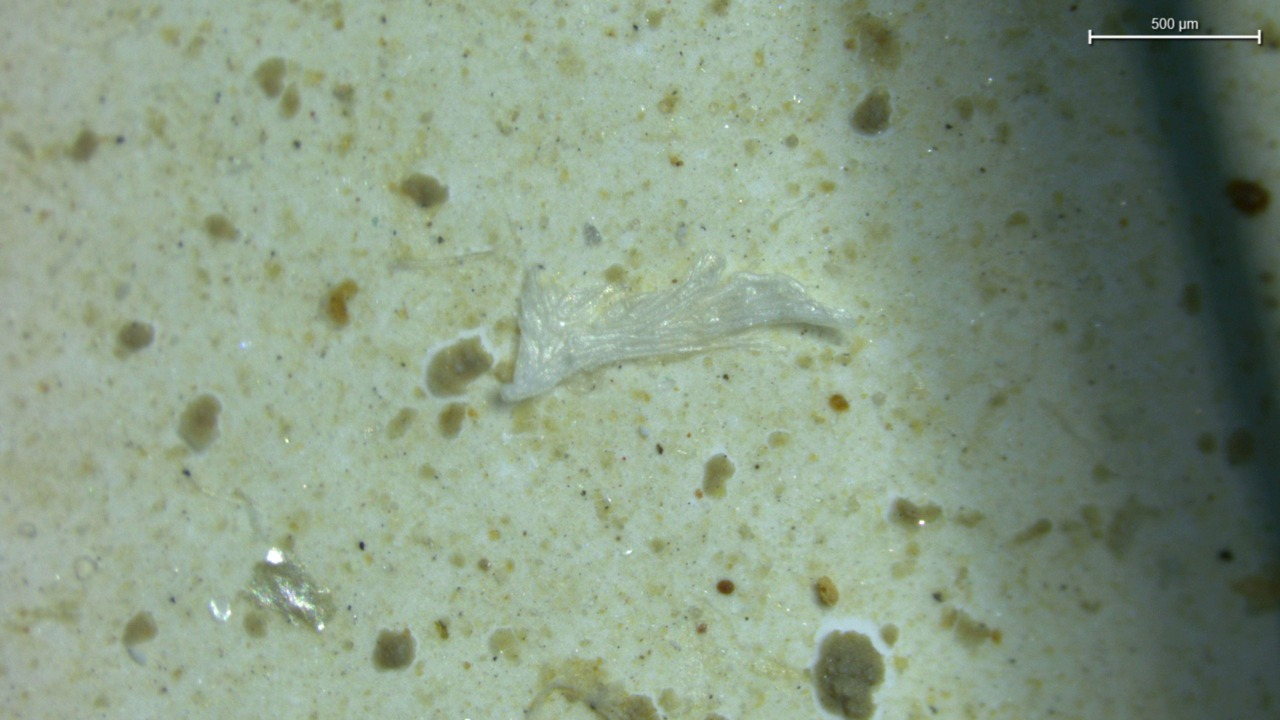microplastic_fragment: (501, 254, 854, 402), (244, 549, 335, 632)
